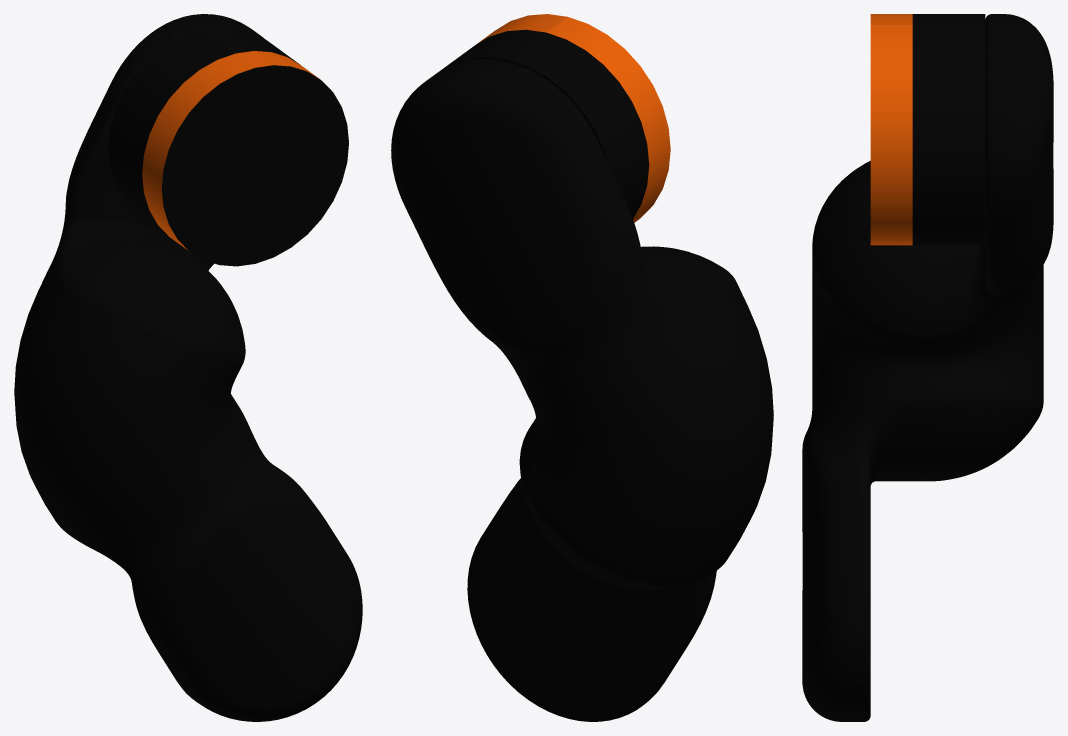
Rendered from Joint2.dae.
The picture shows the model from 3 angles, left to right: view 1: azimuth 30°, elevation 25°; view 2: azimuth 150°, elevation 25°; view 3: azimuth 270°, elevation 25°; orthographic projection. The views are drawn at different scales.
Parts seen in each view (by area): view 1: Object-1; view 2: Object-1; view 3: Object-1.
Part boxes in pixels (bbox=[...]): Object-1: bbox=[14, 14, 362, 721]; Object-1: bbox=[391, 14, 773, 721]; Object-1: bbox=[802, 14, 1053, 721].
Size of the model in its own units: 0.1647 by 0.1139 by 0.3434.
